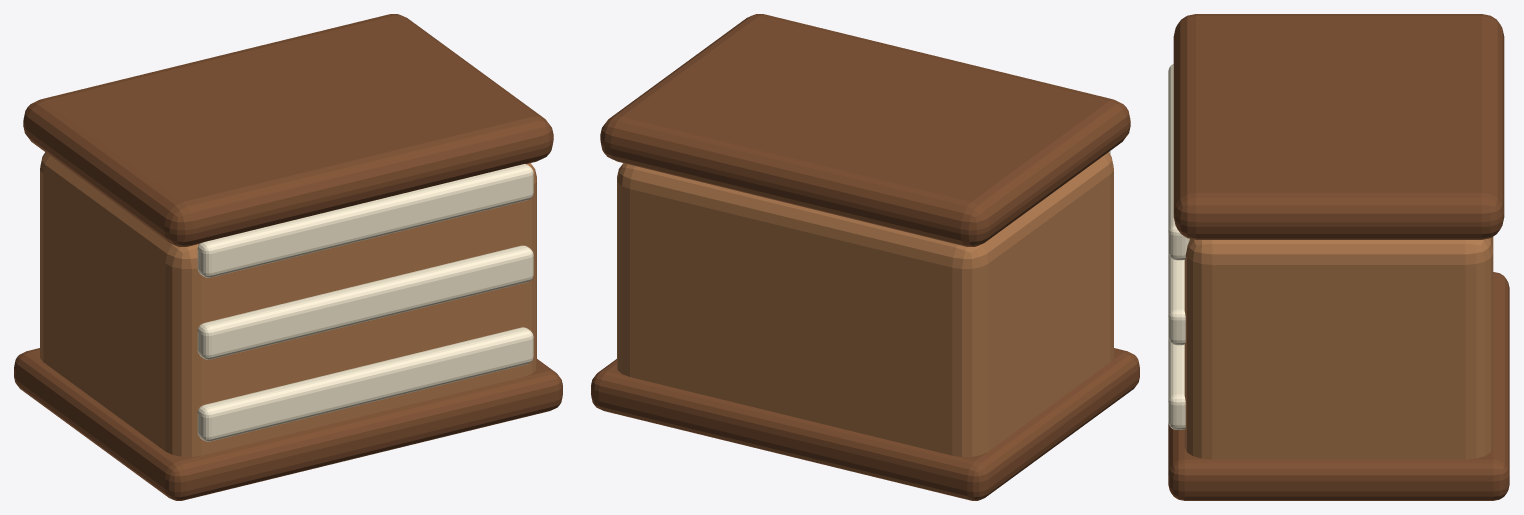
Rendered from ui-crate.glb.
3 renders of one model, left to right at view 1: azimuth 30°, elevation 25°; view 2: azimuth 150°, elevation 25°; view 3: azimuth 270°, elevation 25°, orthographic. The views are drawn at different scales.
Visible parts, largest first — view 1: UI · crate rim, UI · crate body, UI · crate base, UI · crate slat 0, UI · crate slat 1, UI · crate slat 2; view 2: UI · crate body, UI · crate rim, UI · crate base; view 3: UI · crate rim, UI · crate body, UI · crate base, UI · crate slat 2, UI · crate slat 1, UI · crate slat 0.
Boxes of the visible parts, <box> form: UI · crate rim: <box>23,14,553,246</box>; UI · crate body: <box>40,152,536,456</box>; UI · crate base: <box>14,348,562,500</box>; UI · crate slat 0: <box>197,327,533,441</box>; UI · crate slat 1: <box>197,245,533,359</box>; UI · crate slat 2: <box>197,164,533,277</box>; UI · crate body: <box>617,152,1113,456</box>; UI · crate rim: <box>600,14,1130,246</box>; UI · crate base: <box>591,348,1139,500</box>; UI · crate rim: <box>1173,14,1504,239</box>; UI · crate body: <box>1184,237,1493,459</box>; UI · crate base: <box>1168,272,1509,500</box>; UI · crate slat 2: <box>1168,64,1189,260</box>; UI · crate slat 1: <box>1168,253,1185,345</box>; UI · crate slat 0: <box>1168,338,1185,429</box>.
Bounding box in the file's own units: 0.86 × 0.605 × 0.62.
